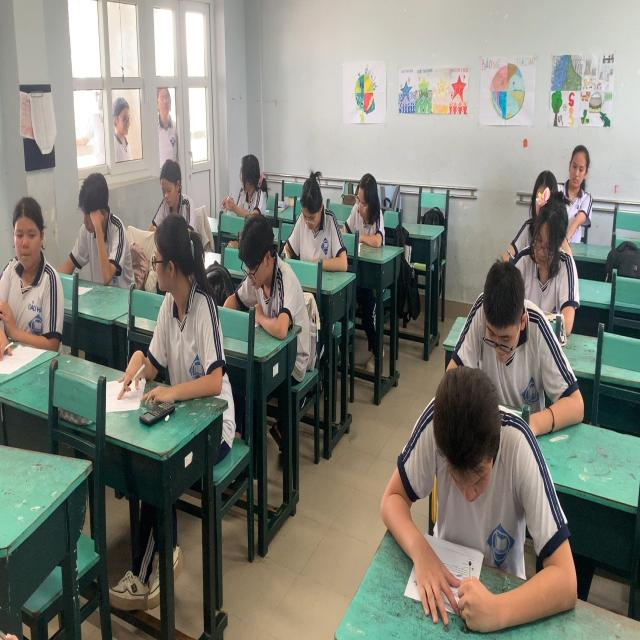cheating: (120, 170, 230, 408), (0, 159, 72, 364)
not_cheating: (363, 362, 570, 530), (448, 234, 570, 438), (210, 165, 308, 364), (52, 147, 144, 329), (508, 193, 584, 370), (273, 144, 359, 297), (337, 136, 423, 284), (118, 128, 204, 272), (210, 110, 291, 249), (556, 100, 596, 280)
